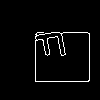F: (25, 25, 75, 64)
